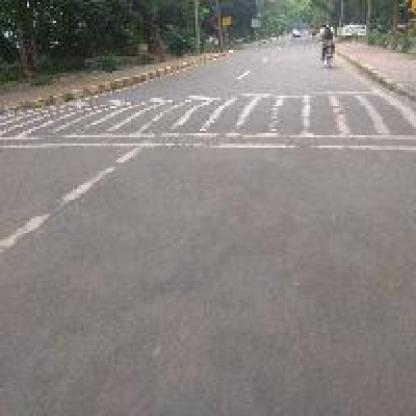Speed Bump: (0, 87, 414, 154)
